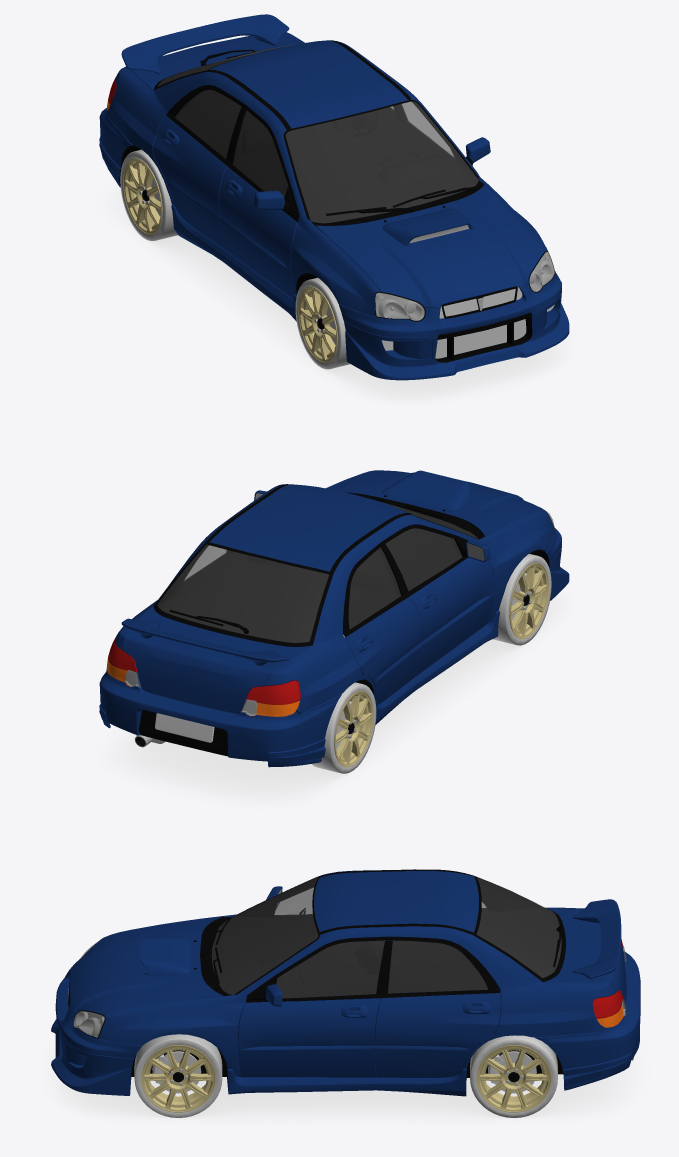
3 views of the same model, one above another, from view 1: azimuth 30°, elevation 25°; view 2: azimuth 150°, elevation 25°; view 3: azimuth 270°, elevation 25° (orthographic). The views are drawn at different scales.
Parts seen in each view (by area): view 1: Body_Paint_Body_Paint_0, Glass_Body_Glass_0, Perfect_Black_Perfect_Black_0, Shadow_Shadow_0, Details_Body_Plastic_0, Details_Textures_0, Wheel_RR_Body_Alloy_0, Wheel_FR_Body_Alloy_0, Wheel_RR_Tire_0, Wheel_FR_Tire_0, Details_Body_Paint_0; view 2: Body_Paint_Body_Paint_0, Glass_Body_Glass_0, Perfect_Black_Perfect_Black_0, Shadow_Shadow_0, Details_Body_Plastic_0, Wheel_RR_Body_Alloy_0, Wheel_FR_Body_Alloy_0, Glass_Body_Glass_Red_0, Wheel_FR_Tire_0, Wheel_RR_Tire_0, Details_Textures_0, Glass_Body_Glass_Orange_0; view 3: Body_Paint_Body_Paint_0, Glass_Body_Glass_0, Perfect_Black_Perfect_Black_0, Shadow_Shadow_0, Details_Body_Plastic_0, Wheel_RL_Body_Alloy_0, Wheel_FL_Body_Alloy_0, Wheel_FL_Tire_0, Wheel_RL_Tire_0, Glass_Body_Glass_Red_0, Details_Textures_0, Details_Body_Paint_0.
Part boxes in pixels (x1,y1,x2,y2): Body_Paint_Body_Paint_0: (99,14,569,380); Glass_Body_Glass_0: (157,42,555,320); Perfect_Black_Perfect_Black_0: (118,54,478,299); Shadow_Shadow_0: (108,187,567,402); Details_Body_Plastic_0: (153,40,555,362); Details_Textures_0: (375,225,554,358); Wheel_RR_Body_Alloy_0: (123,158,162,234); Wheel_FR_Body_Alloy_0: (298,286,337,362); Wheel_RR_Tire_0: (120,149,177,240); Wheel_FR_Tire_0: (295,277,350,369); Details_Body_Paint_0: (253,137,490,209); Body_Paint_Body_Paint_0: (99,470,569,767); Glass_Body_Glass_0: (125,502,555,716); Perfect_Black_Perfect_Black_0: (135,495,550,746); Shadow_Shadow_0: (107,592,567,804); Details_Body_Plastic_0: (138,484,554,756); Wheel_RR_Body_Alloy_0: (334,691,373,767); Wheel_FR_Body_Alloy_0: (509,563,548,638); Glass_Body_Glass_Red_0: (108,639,300,716); Wheel_FR_Tire_0: (493,554,551,645); Wheel_RR_Tire_0: (312,682,376,773); Details_Textures_0: (125,514,549,742); Glass_Body_Glass_Orange_0: (106,659,299,716); Body_Paint_Body_Paint_0: (51,869,640,1096); Glass_Body_Glass_0: (73,877,626,1037); Perfect_Black_Perfect_Black_0: (130,877,564,1090); Shadow_Shadow_0: (50,1044,636,1121); Details_Body_Plastic_0: (62,869,565,1057); Wheel_RL_Body_Alloy_0: (476,1045,551,1112); Wheel_FL_Body_Alloy_0: (141,1045,215,1112); Wheel_FL_Tire_0: (134,1034,222,1117); Wheel_RL_Tire_0: (470,1035,557,1117); Glass_Body_Glass_Red_0: (592,939,625,1018); Details_Textures_0: (74,1001,625,1037); Details_Body_Paint_0: (265,886,282,1006).
Bounding box in the file's own units: 2.59 × 1.45 × 4.9.
